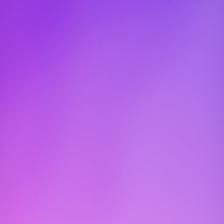purple: (0, 1, 224, 223)
